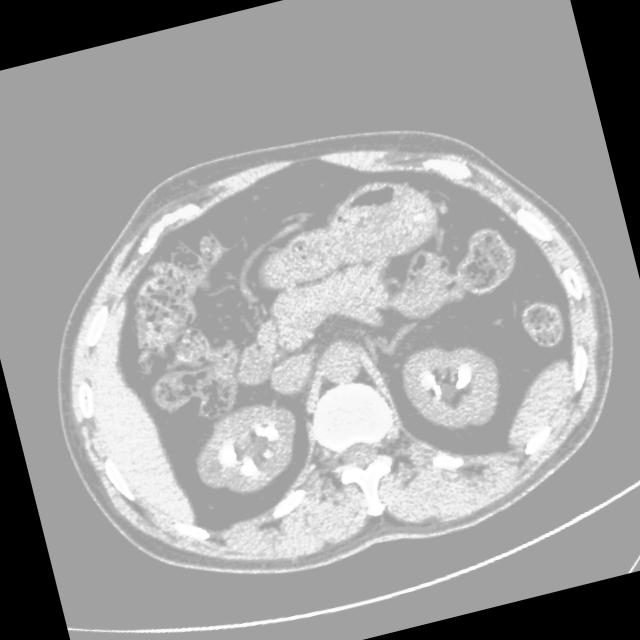STONE: (129, 162, 545, 510)
